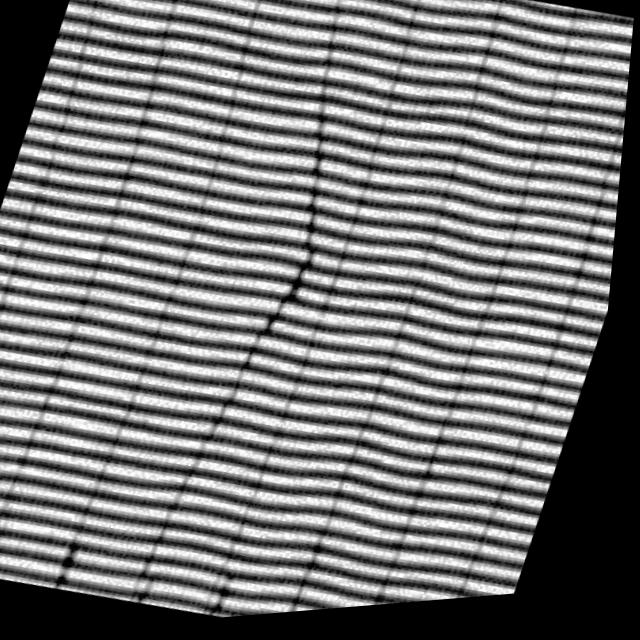Stitch: (168, 40, 411, 473)
